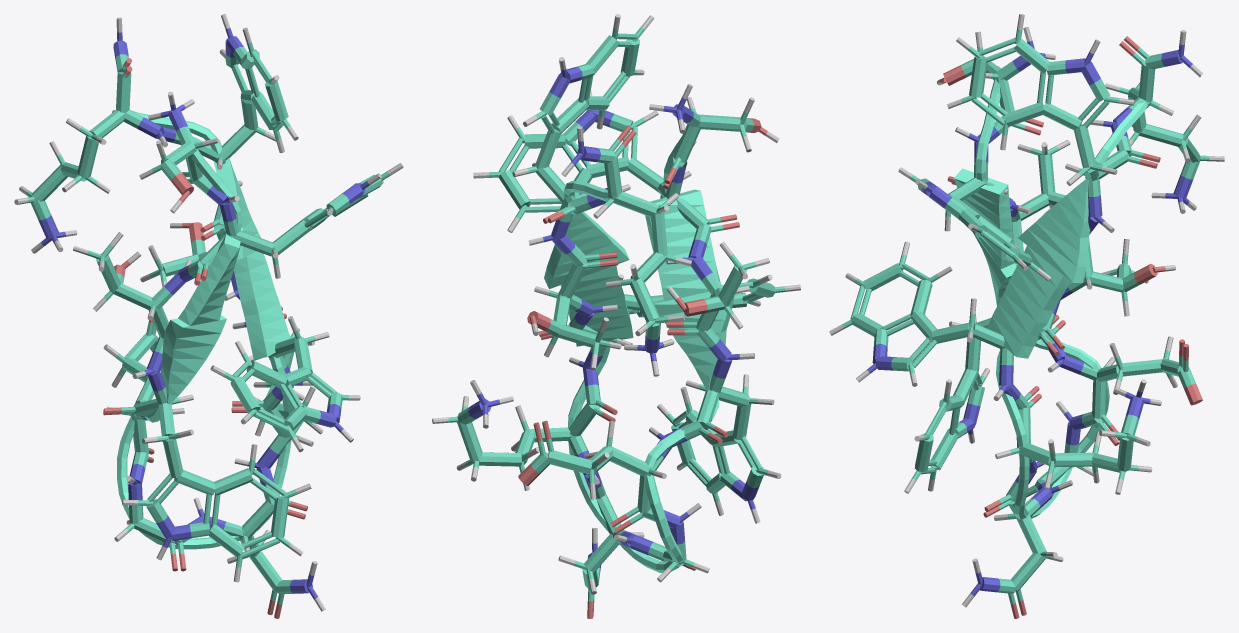
File: 1le0__cartoon-sticks__default.glb
3 views of the same model, side by side, from view 1: azimuth 30°, elevation 25°; view 2: azimuth 150°, elevation 25°; view 3: azimuth 270°, elevation 25° (orthographic). The views are drawn at different scales.
Visible parts, largest first — view 1: Renderer Node; view 2: Renderer Node; view 3: Renderer Node.
Part boxes in pixels (box(x1,y1,x2,y2)): Renderer Node: box(14, 14, 403, 618); Renderer Node: box(432, 14, 800, 618); Renderer Node: box(829, 14, 1224, 618).
Size of the model in its own units: 11.8 by 23.22 by 14.11.
